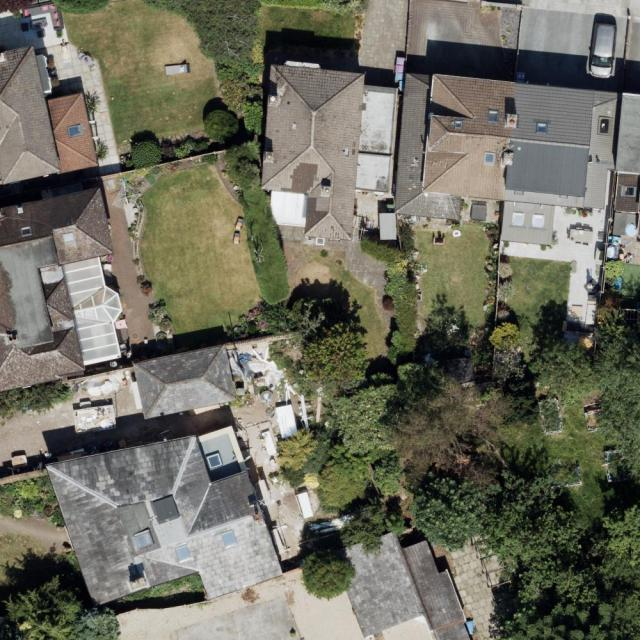roof: (44, 425, 283, 608), (395, 72, 640, 246), (0, 188, 122, 391), (261, 62, 397, 240), (333, 531, 472, 640), (0, 44, 99, 185), (130, 344, 240, 418)
skylight: (63, 257, 122, 368), (173, 543, 195, 570), (596, 113, 612, 138), (204, 450, 224, 470), (219, 530, 238, 551), (66, 122, 84, 140), (511, 208, 526, 229), (482, 150, 498, 169), (533, 120, 551, 136), (484, 108, 500, 124), (531, 212, 546, 229), (622, 184, 636, 198), (62, 231, 75, 245), (451, 119, 466, 131), (20, 227, 33, 237)
